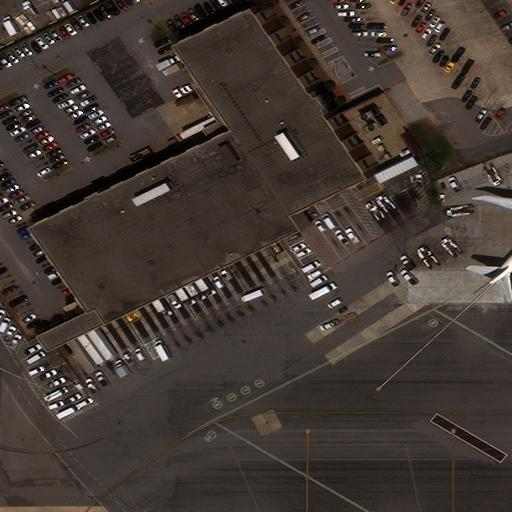Large Civil Transport: (472, 187, 511, 284)
